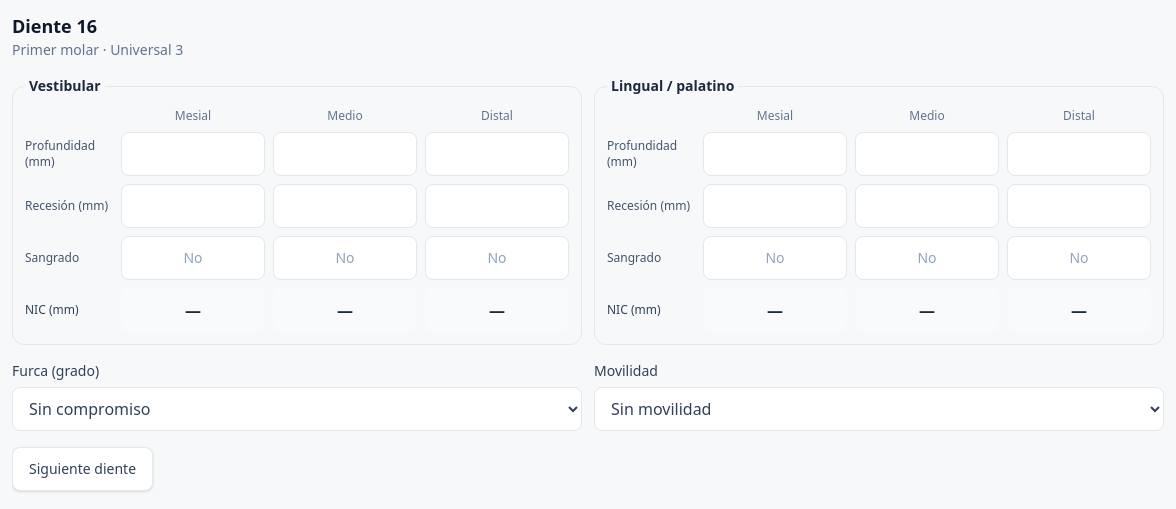
<ToothCapture>: captura rápida de 6 puntos › un «1» espera el siguiente dígito (10–15 mm)
The image size is (1176, 509).
Click the field named "Profundidad vestibular mesial" at (193, 154), box x1=121 y1=132 x2=265 y2=176
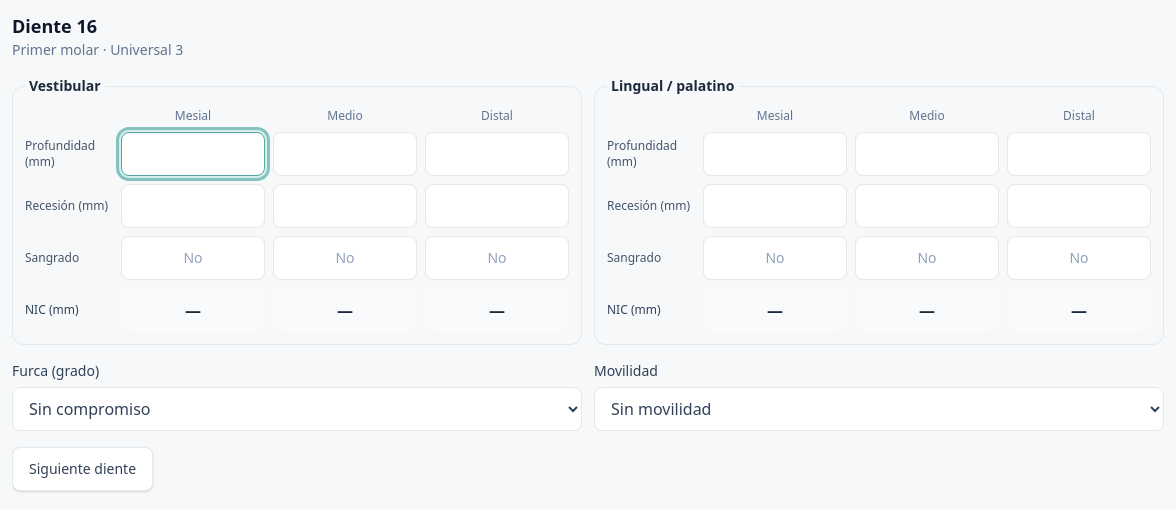
Type keys "1"
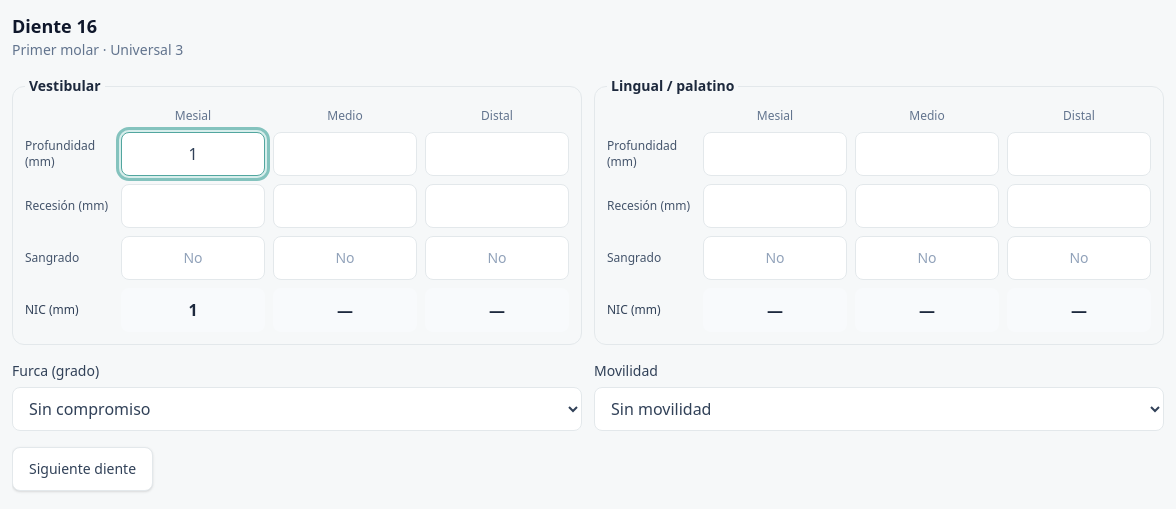
Type keys "2"
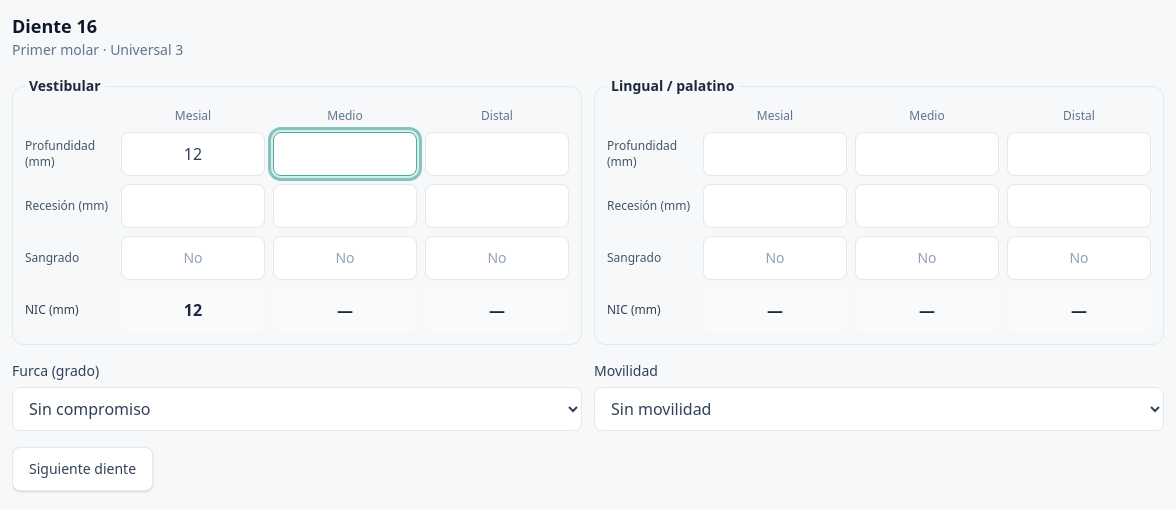
Expected: the field named "Profundidad vestibular mesial" holds "12", x1=121 y1=132 x2=265 y2=176
